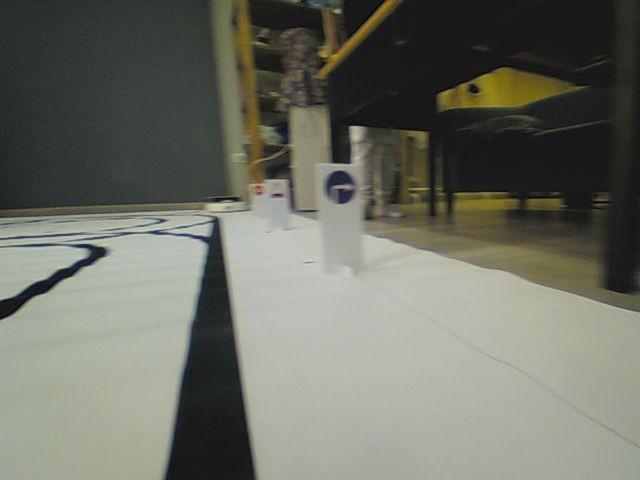Right: (323, 169, 355, 204)
